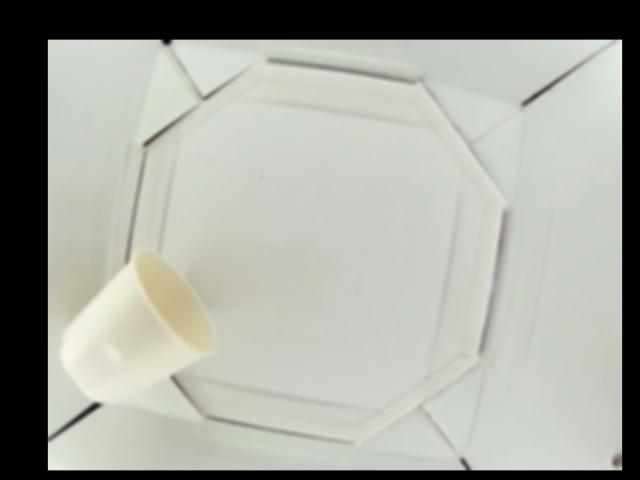Cup: (57, 247, 217, 405)
